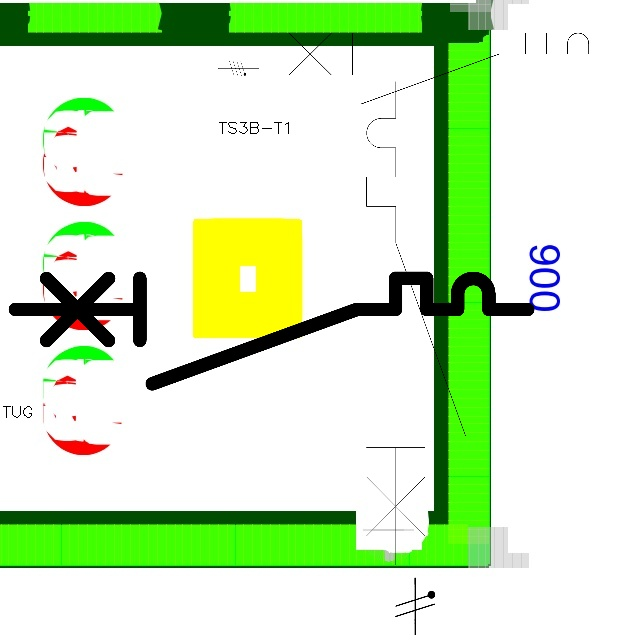interruptor_termomagnetico: (2, 265, 541, 397), (354, 69, 478, 577), (259, 24, 624, 113)
